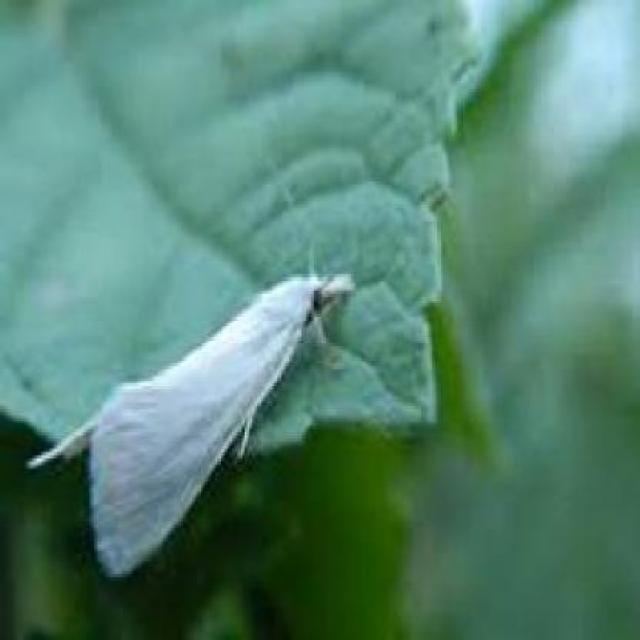stem-borer: (25, 264, 357, 584)
